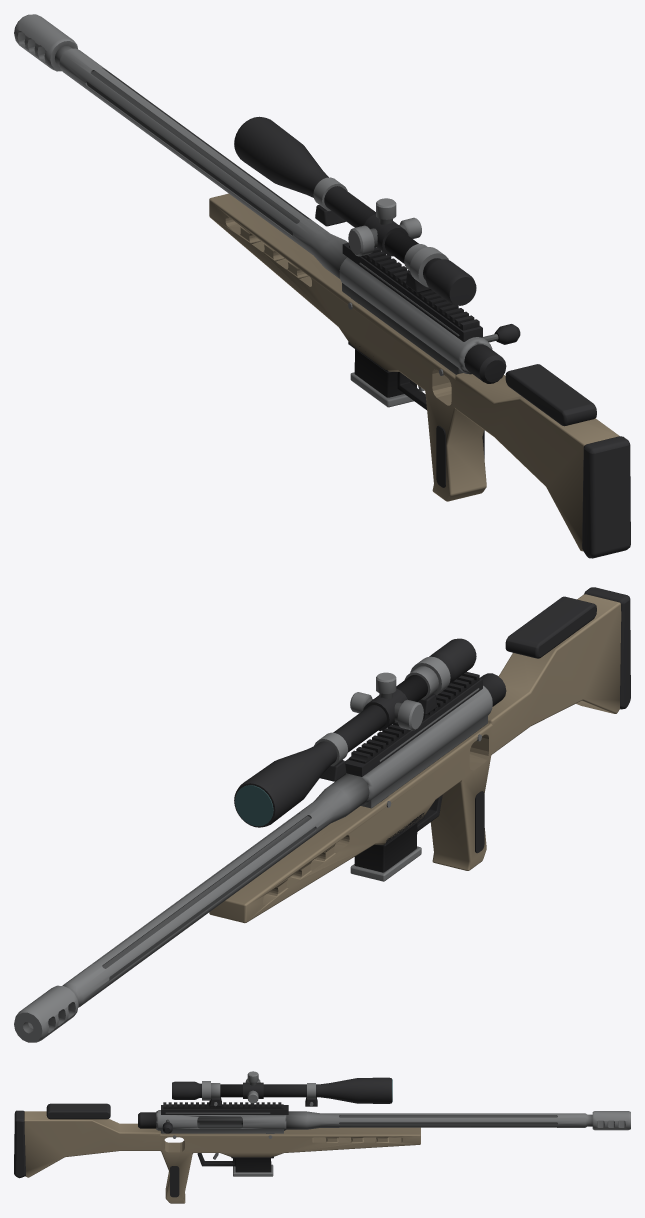
The model's file is corvid_338.glb.
3 views of the same model, one above another, from view 1: azimuth 30°, elevation 25°; view 2: azimuth 150°, elevation 25°; view 3: azimuth 270°, elevation 25° (orthographic). The views are drawn at different scales.
Parts seen in each view (by area): view 1: Stock, Optic, Barrel, Receiver, MuzzleBrake, Magazine; view 2: Stock, Optic, Barrel, Receiver, MuzzleBrake, Magazine, OpticGlass; view 3: Stock, Barrel, Optic, Receiver, MuzzleBrake, Magazine, Bolt.
Boxes of the visible parts, x1,y1,x2,y2 form: Stock: (209,193,630,558); Optic: (234,116,476,305); Barrel: (55,46,347,278); Receiver: (339,242,506,383); MuzzleBrake: (14,14,77,71); Magazine: (350,349,416,407); Stock: (209,587,630,923); Optic: (234,638,476,827); Barrel: (62,773,369,1007); Receiver: (345,672,506,846); MuzzleBrake: (14,985,78,1042); Magazine: (350,823,421,881); OpticGlass: (235,785,273,826); Stock: (14,1103,420,1203); Barrel: (286,1111,592,1129); Optic: (172,1071,391,1106); Receiver: (138,1102,288,1158); MuzzleBrake: (592,1111,630,1130); Magazine: (233,1158,273,1176); Bolt: (197,1116,242,1122).
Size of the model in its own units: 0.11 by 0.304 by 1.35.
